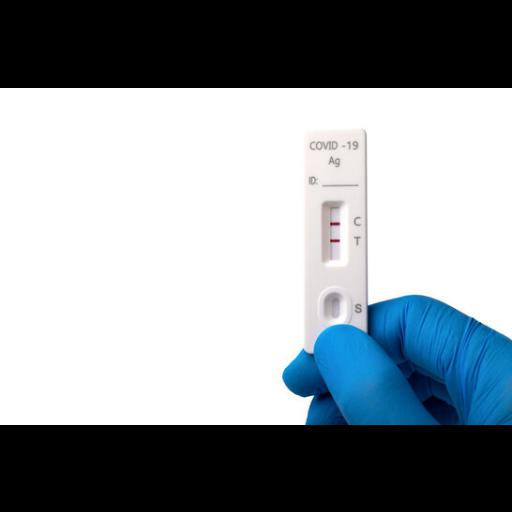Pos: (304, 127, 366, 351)
